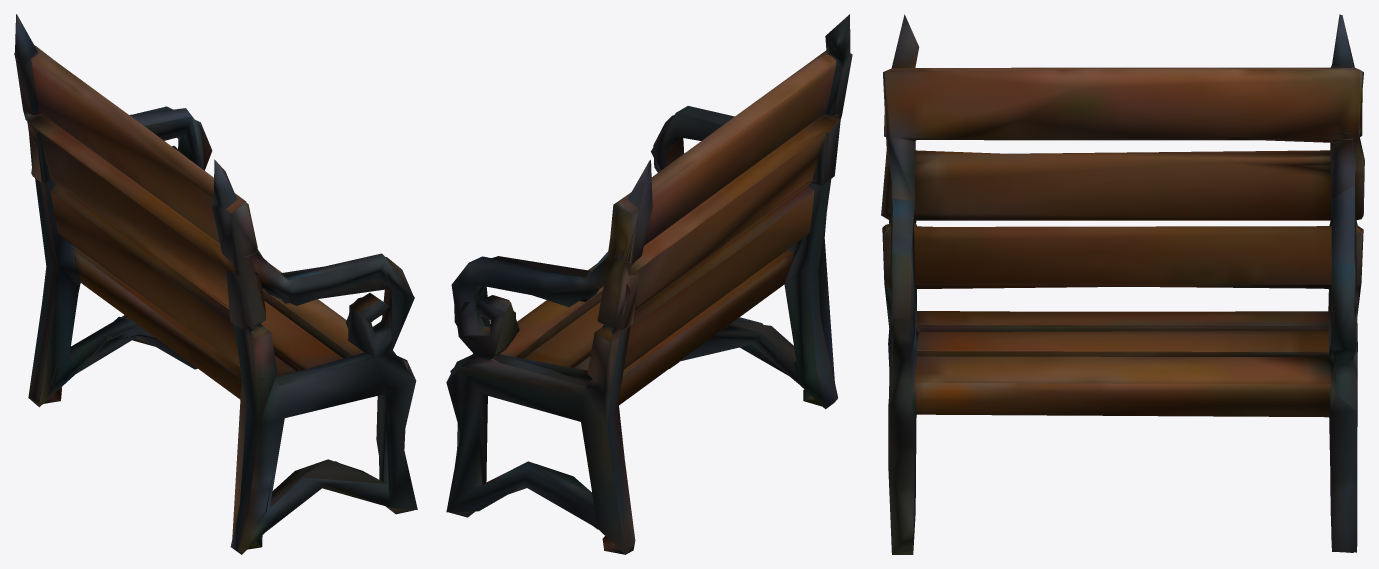
File: bench.glb
3 views of the same model, side by side, from view 1: azimuth 30°, elevation 25°; view 2: azimuth 150°, elevation 25°; view 3: azimuth 270°, elevation 25° (orthographic). The views are drawn at different scales.
Bounding box in the file's own units: 0.519 × 0.9929 × 0.9967.
1 material, 1 textured.
